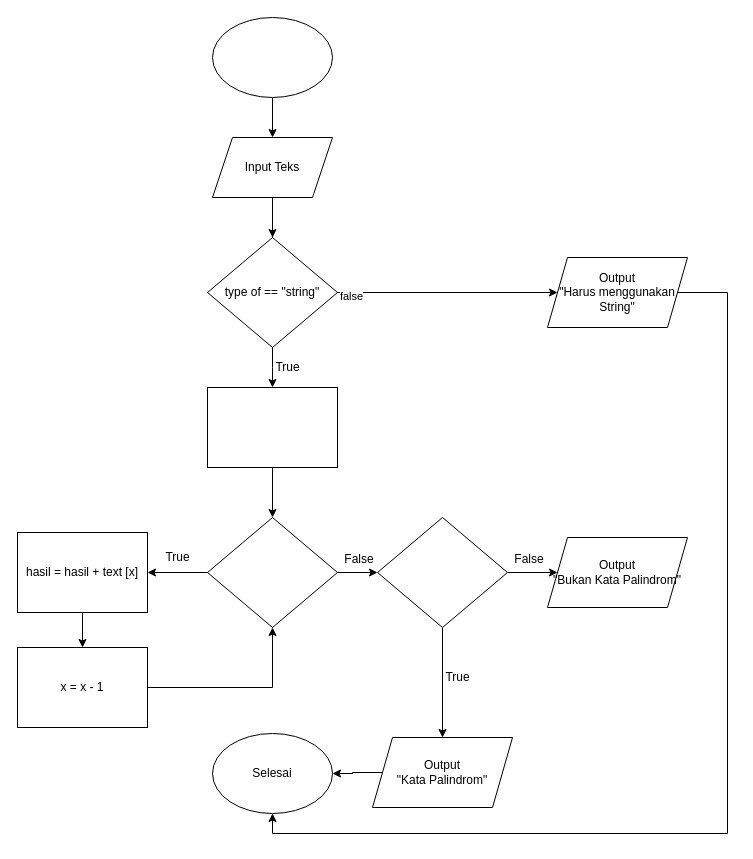
This 753x859 diagram has some shape labels left out. The box of each missing label's shape, as (x1, y1, x2, y2) in pixels:
hasil == text: (376, 516, 508, 628)
Mulai: (212, 16, 332, 98)
x = text.lenght - 1: (206, 386, 338, 468)
x >= 0: (206, 516, 338, 628)
